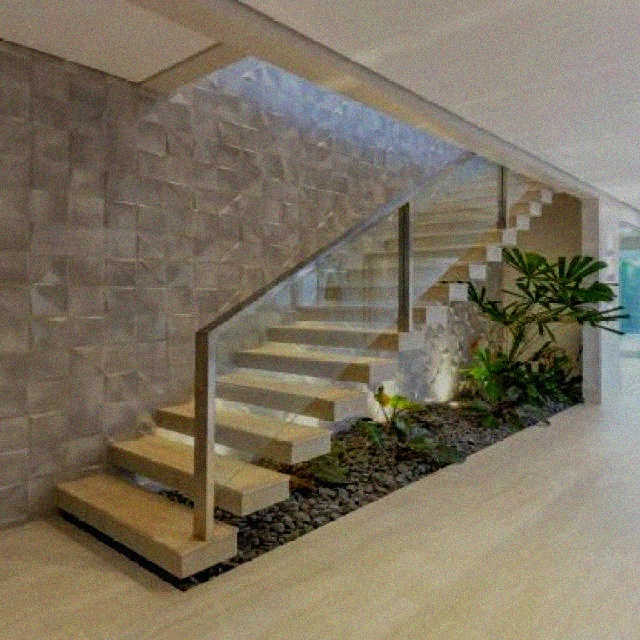stair: (39, 136, 575, 585)
